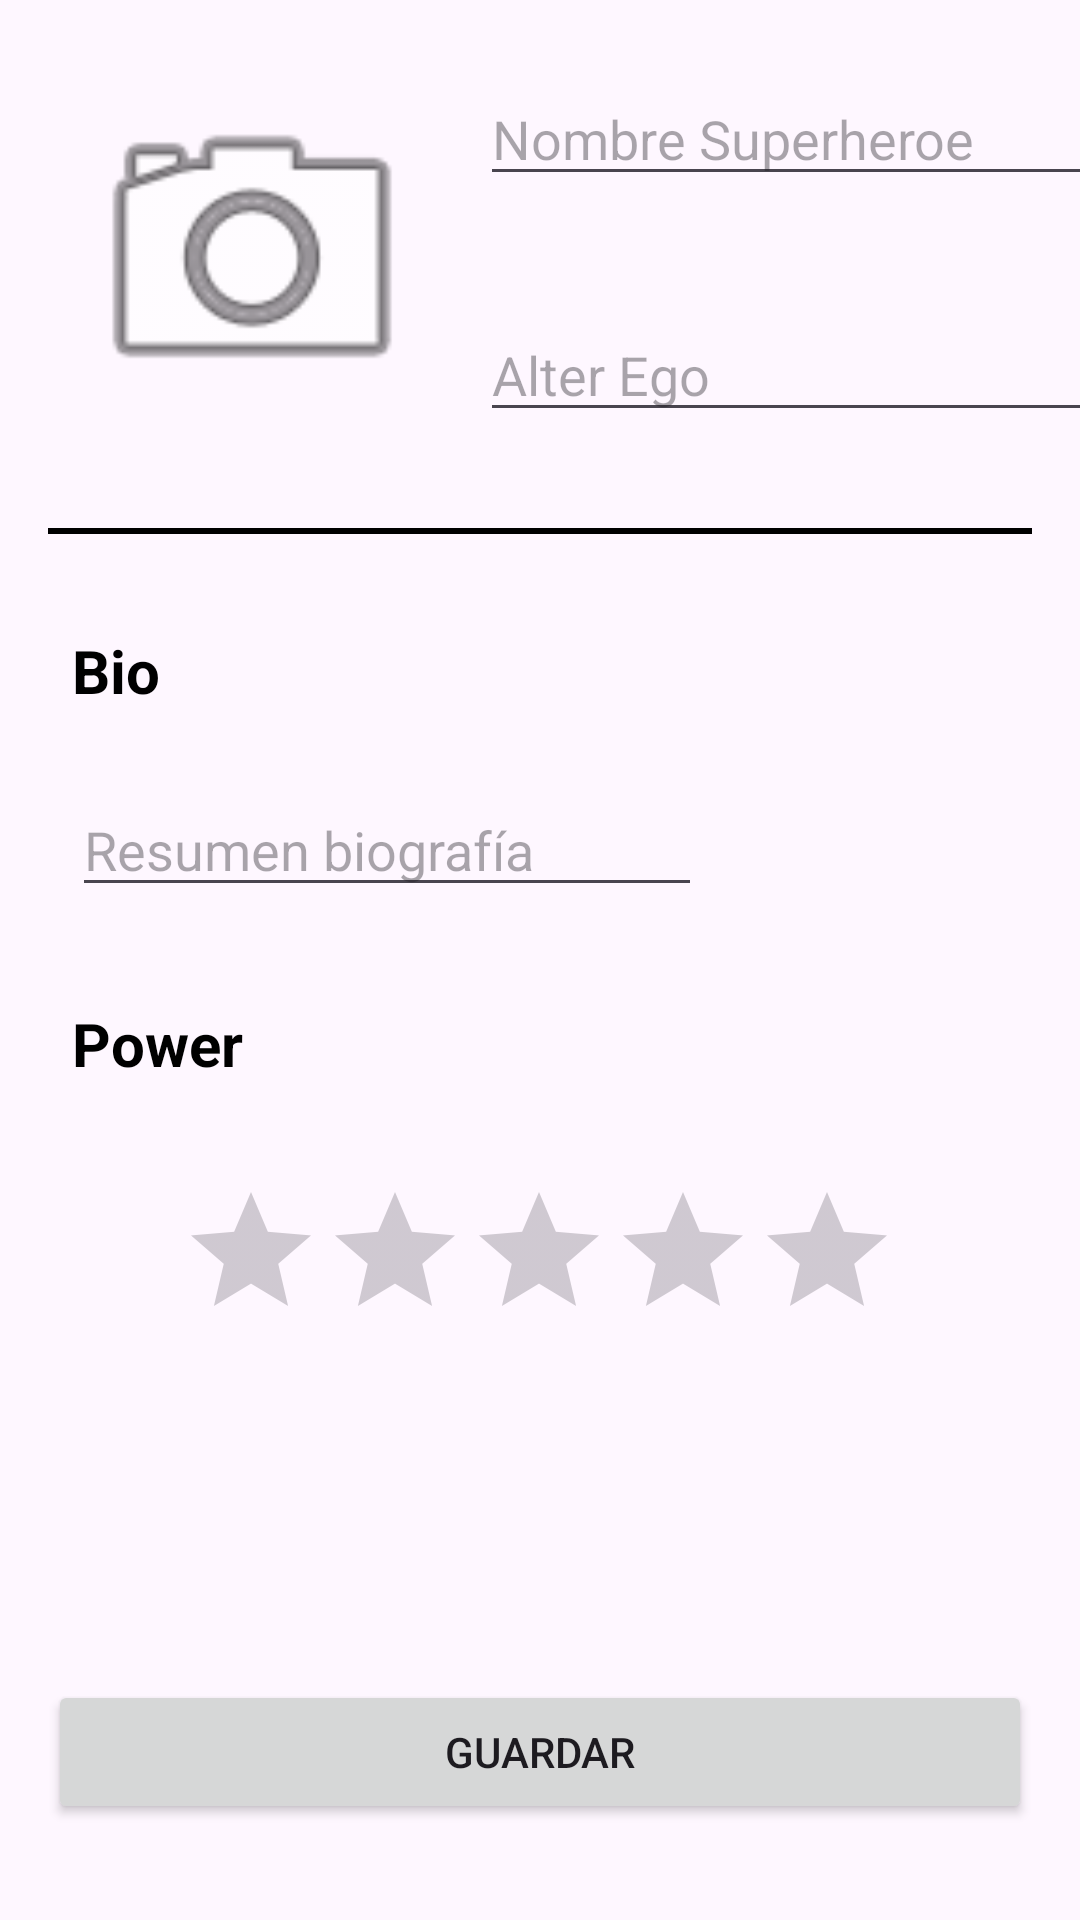

Icon bounding boxes for this 1080 × 1920 phone screenshot, format (left=x1, top=y1, right=x2, bottom=y2):
camera: (left=113, top=135, right=391, bottom=357)
